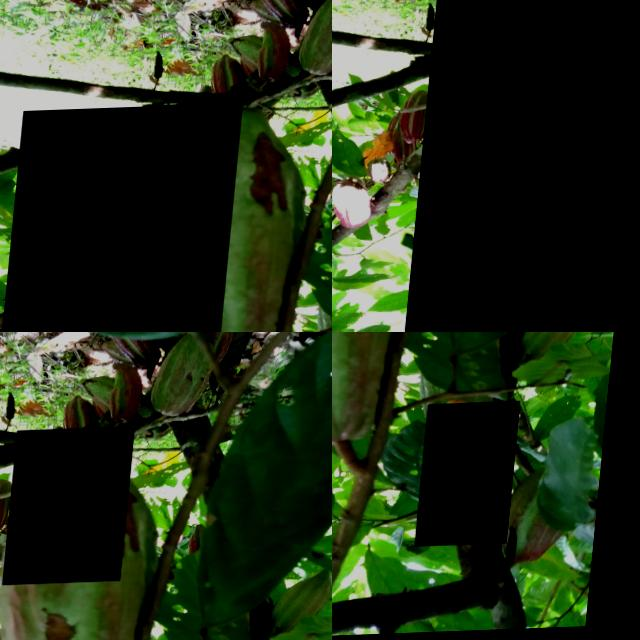Fitoftora: (249, 401, 332, 493)
Sana: (411, 0, 640, 332), (0, 105, 246, 332), (9, 429, 139, 587), (426, 405, 529, 550), (332, 332, 424, 453), (0, 528, 95, 607), (519, 332, 593, 364)
